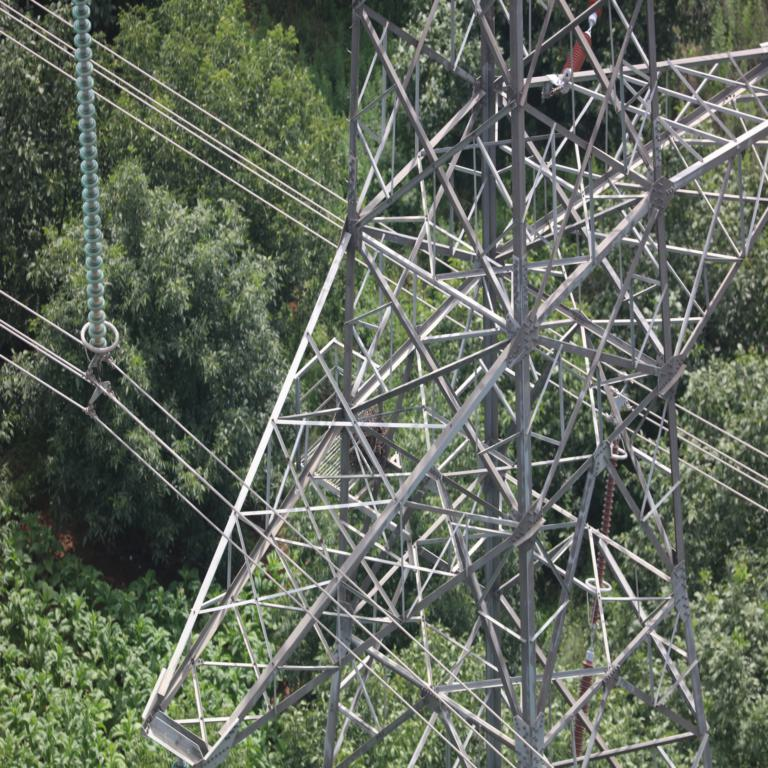nest: (352, 427, 389, 474)
